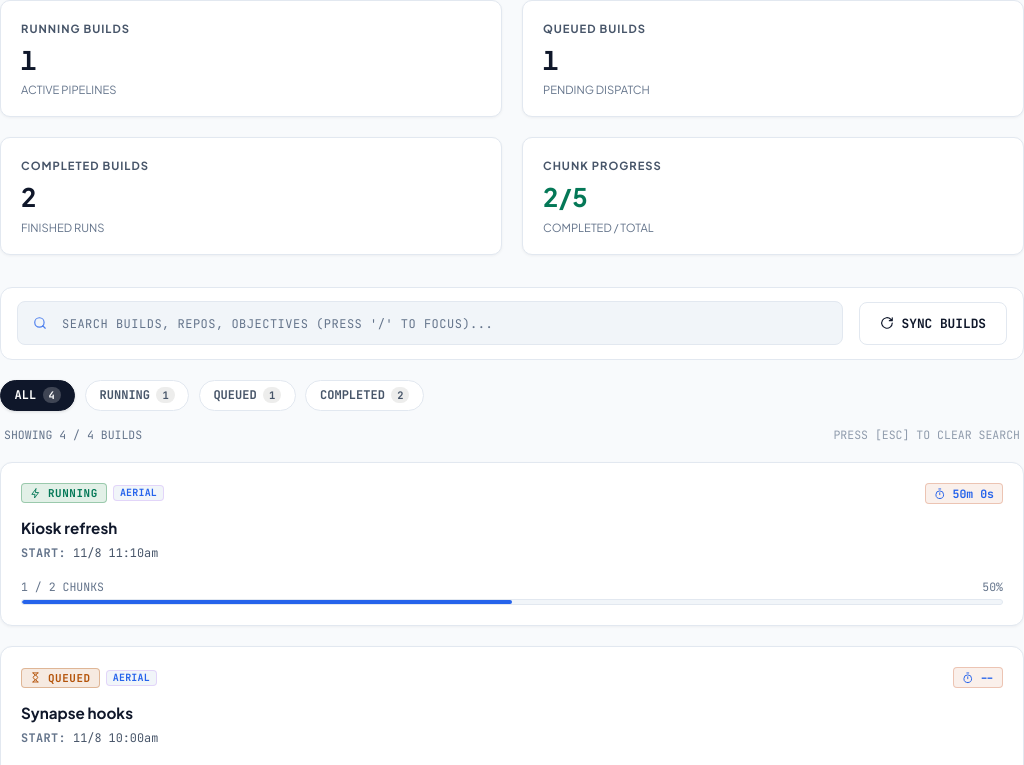
Test: BuildsView filters › clears the search with the clear button
Type "docs" into the field labelled "SEARCH BUILDS" at point(430, 323), box top-left (17, 301), bottom-right (842, 345)
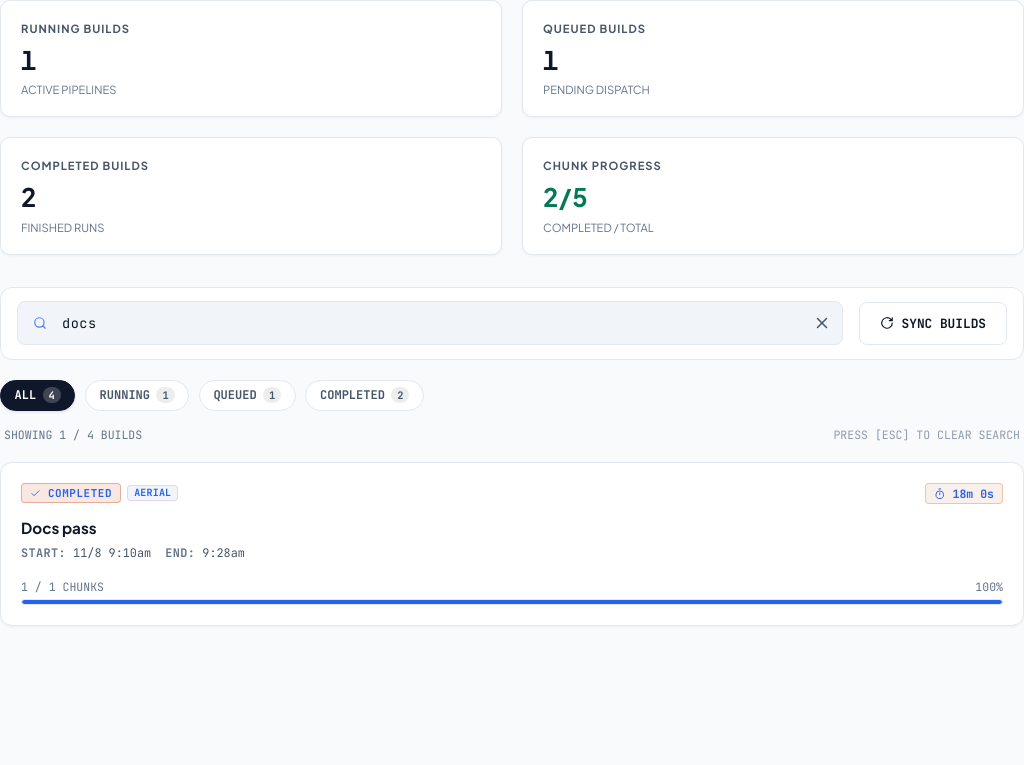
Click the button named "Clear search" at point(822, 323), box top-left (812, 314), bottom-right (830, 332)
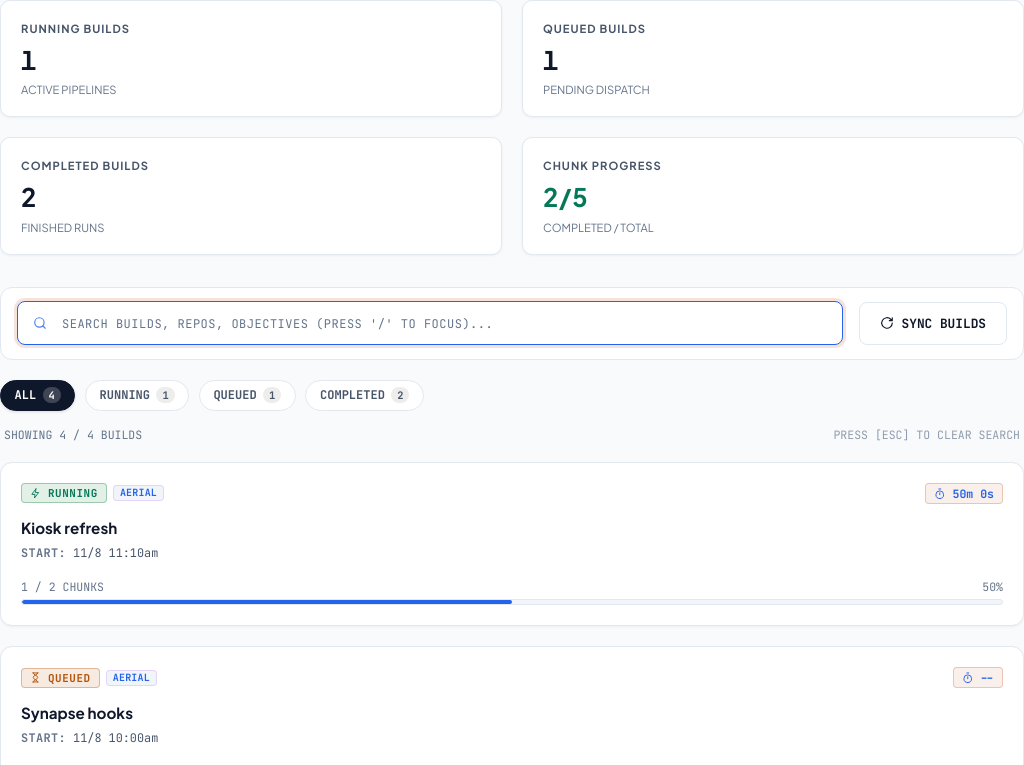
Expected: the field labelled "SEARCH BUILDS" is empty, top-left (17, 301), bottom-right (842, 345)
Expected: the number of headings is 4
